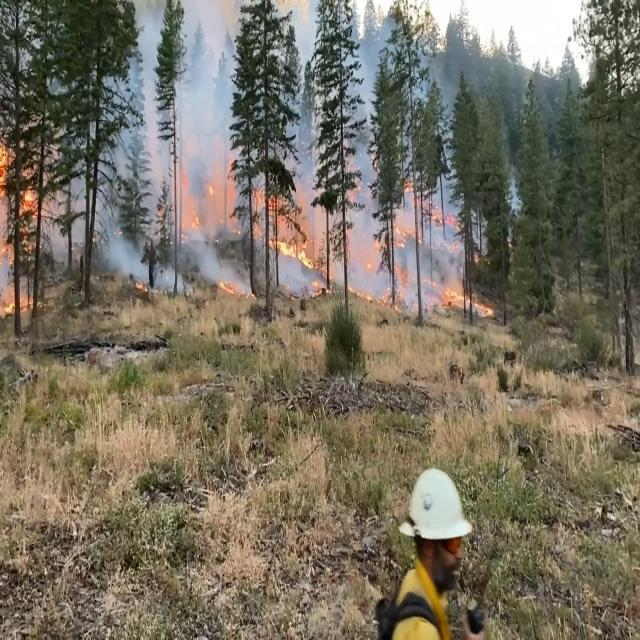Fire: (177, 141, 486, 315)
